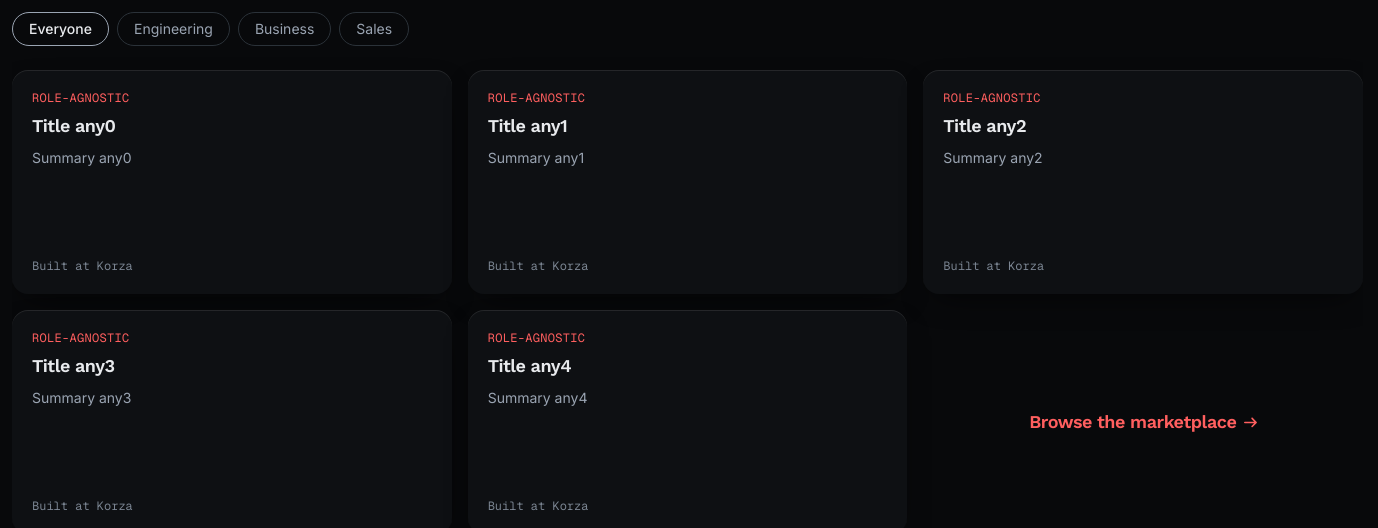
Scenario: the skill picker › puts the skills that carry the audience ahead of the All ones
Click the button "Sales": point(374, 29) [339,12,409,46]
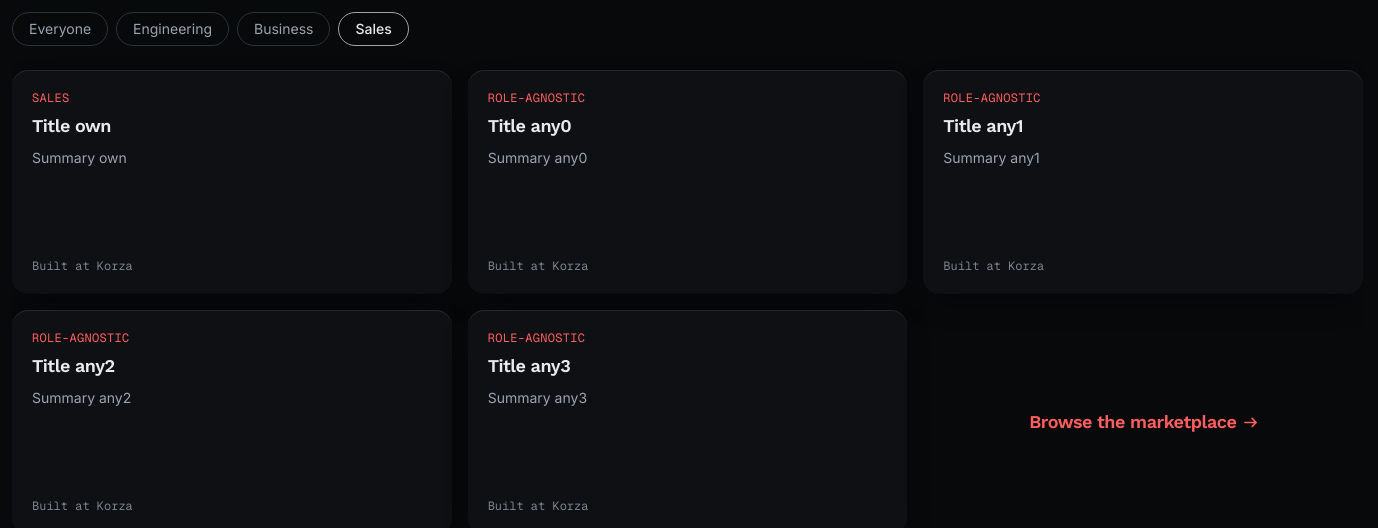
Now the heading "Title own" is shown, box [32,115,111,136]
